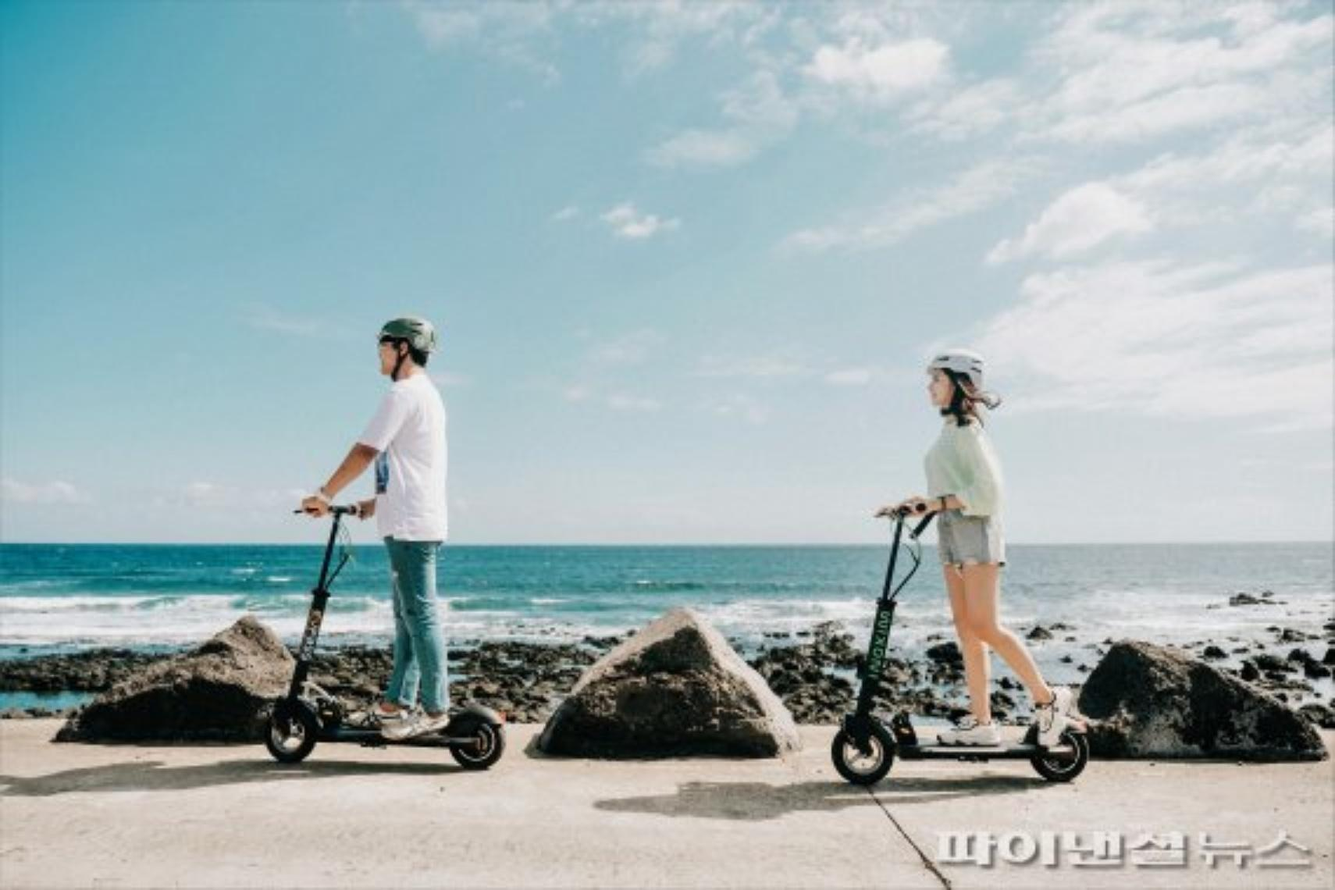helmet: (920, 344, 996, 425), (368, 313, 438, 381)
human: (876, 343, 1072, 738), (304, 313, 455, 714)
kickboard: (242, 695, 512, 773), (815, 720, 1099, 787)
